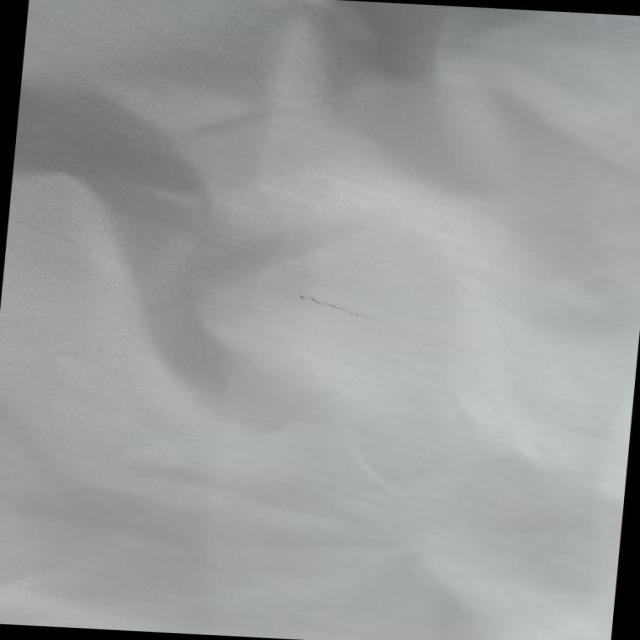contamination: (281, 286, 374, 326)
